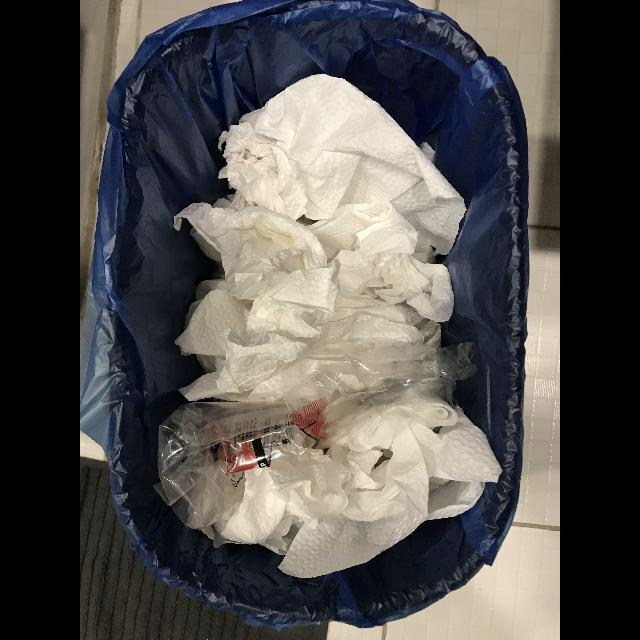paper: (215, 397, 503, 580), (217, 74, 467, 264), (173, 203, 341, 402), (306, 204, 454, 348)
plastic_bag: (158, 342, 479, 536)
